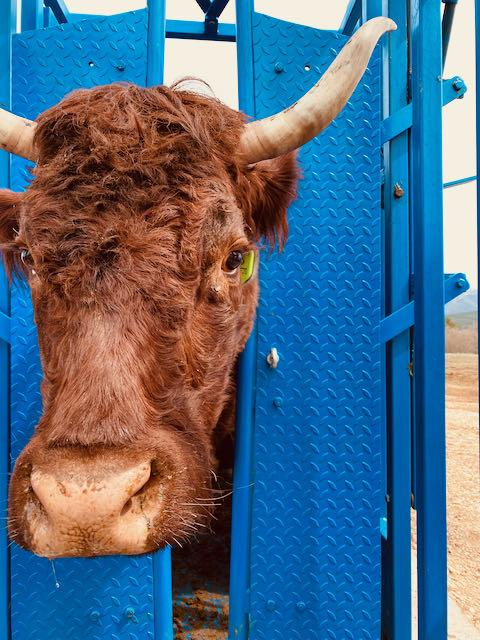muzzles: (2, 444, 210, 566)
